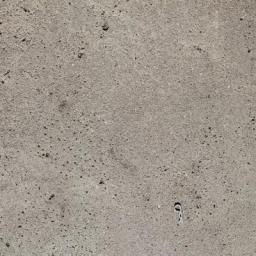FOD: (171, 197, 190, 227)
